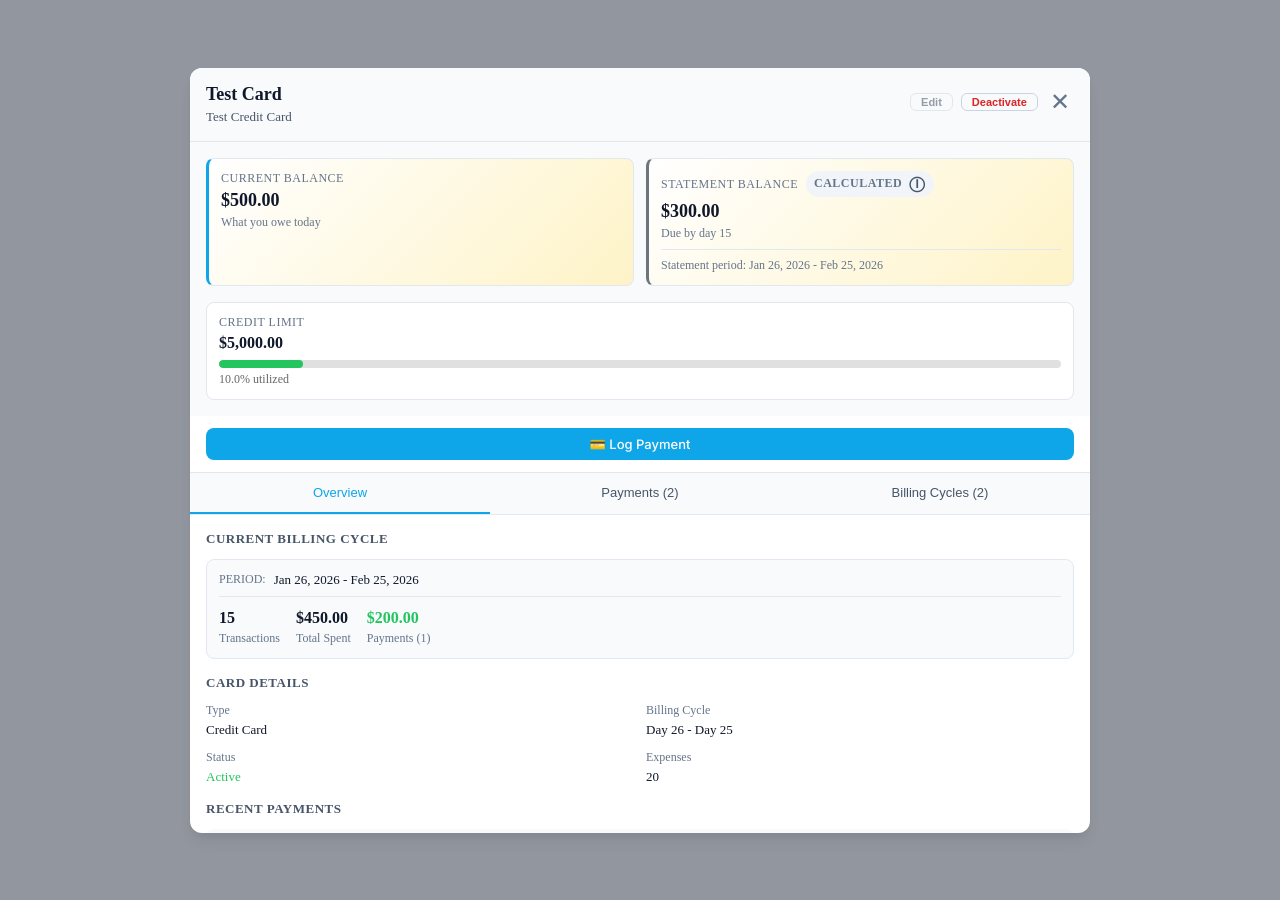
Test: CreditCardDetailView - Unified Endpoint Integration › State Mapping › should display payments in payments tab
expect the heading "Test Card" is shown: met, box [206,84,292,104]
Click the button "Payments (2)".
click(640, 493)  # box [490,472,790,514]
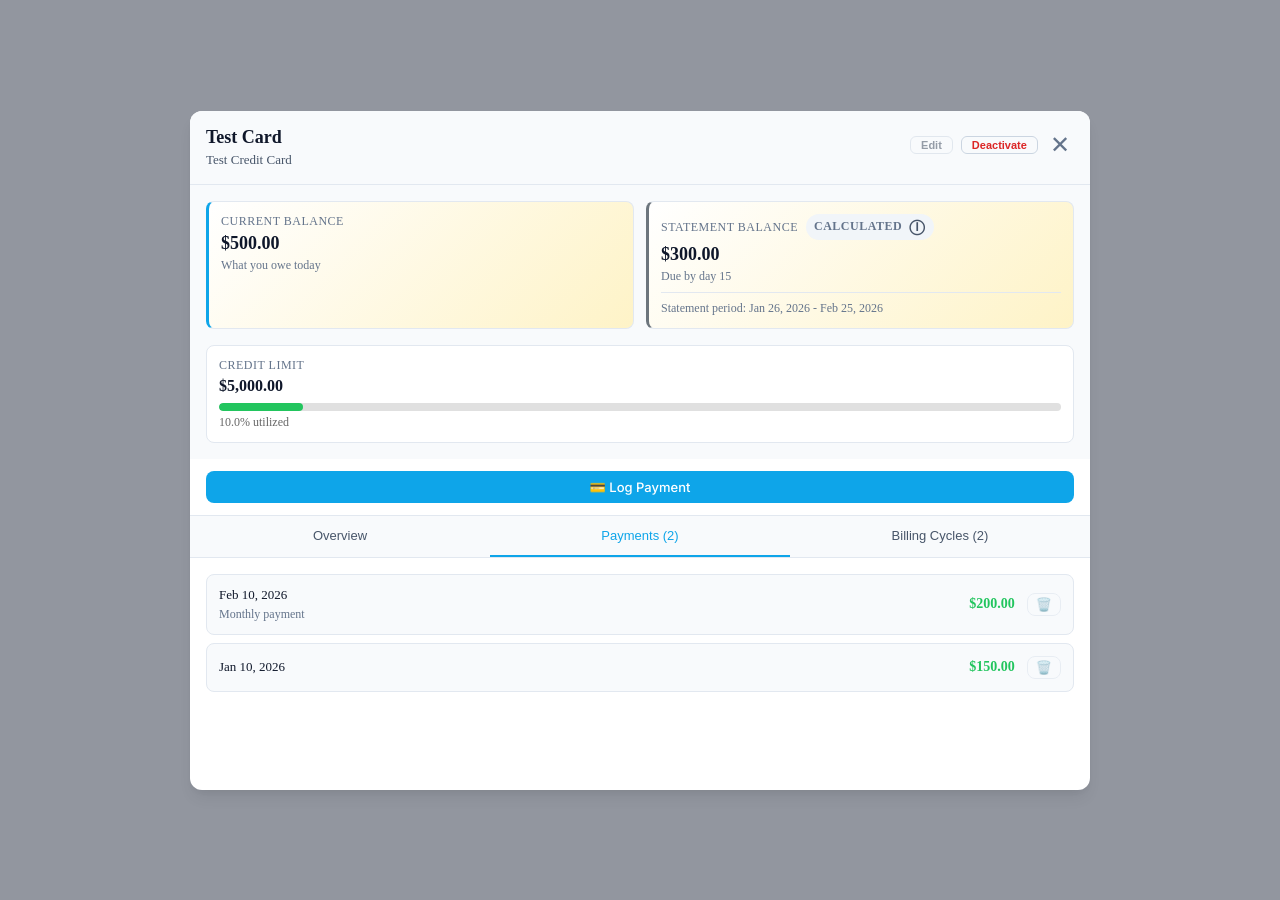
expect the text "$200.00" is shown: met, box [969,596,1015,612]
expect the text "$150.00" is shown: met, box [969,659,1015,675]
